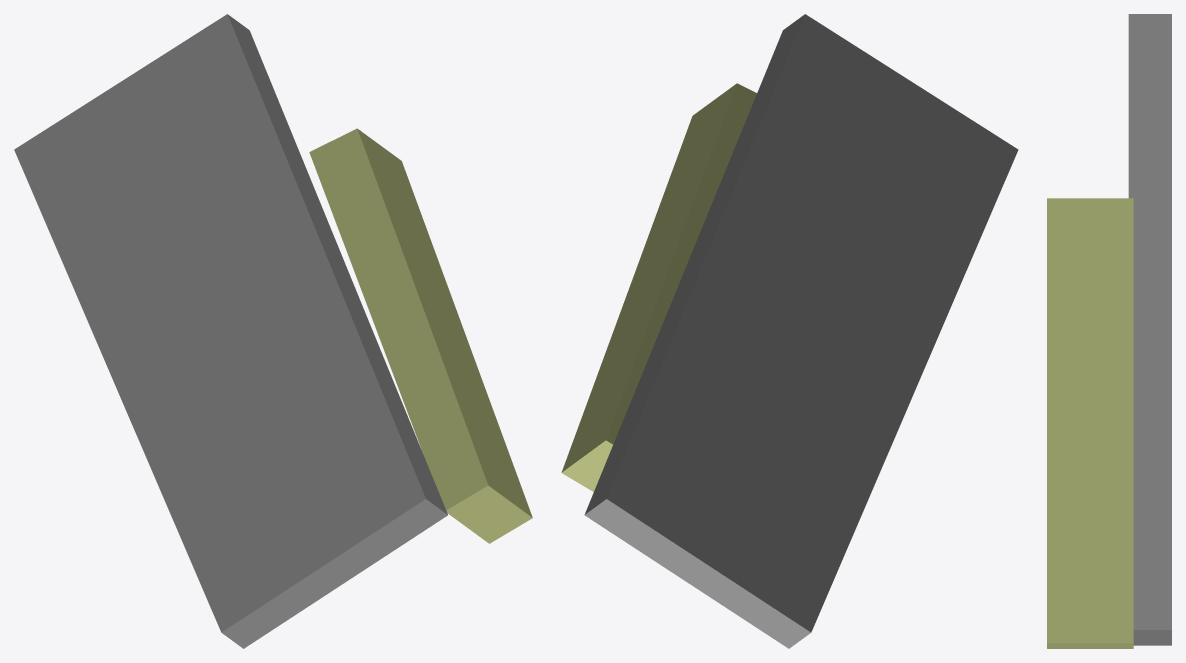
The picture shows the model from 3 angles, left to right: view 1: azimuth 30°, elevation 25°; view 2: azimuth 150°, elevation 25°; view 3: azimuth 270°, elevation 25°; orthographic projection. The views are drawn at different scales.
Visible parts, largest first — view 1: 0_1_1_3_2_3_1_2_1; view 2: 0_1_1_3_2_3_1_2_1; view 3: 0_1_1_3_2_3_1_2_1.
Boxes of the visible parts, x1,y1,x2,y2 form: 0_1_1_3_2_3_1_2_1: [14, 14, 532, 648]; 0_1_1_3_2_3_1_2_1: [561, 14, 1018, 648]; 0_1_1_3_2_3_1_2_1: [1047, 14, 1171, 648].
Bounding box in the file's own units: 35.33 × 45.84 × 8.65.
